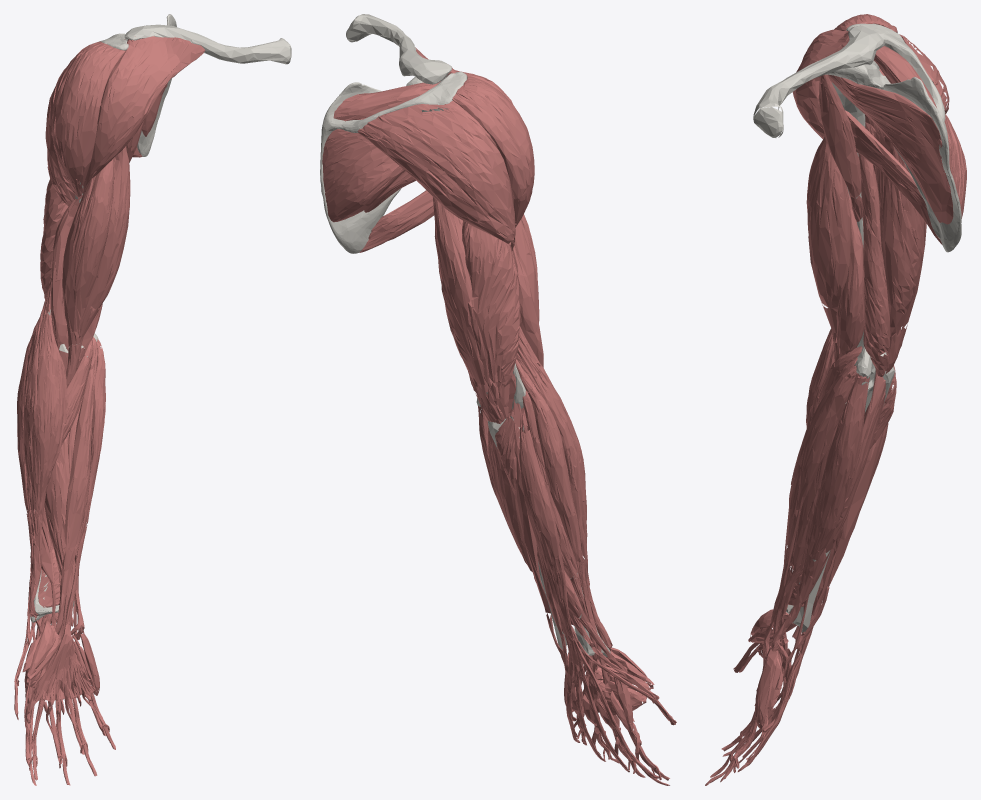
The model's file is v3-musc-arm.glb.
3 renders of one model, left to right at view 1: azimuth 30°, elevation 25°; view 2: azimuth 150°, elevation 25°; view 3: azimuth 270°, elevation 25°, orthographic. The views are drawn at different scales.
Parts seen in each view (by area): view 1: Clavicular part of deltoid muscle.r#91, Brachioradialis muscle.r#41, Acromial part of deltoid muscle.r#93, Long head of biceps brachii.r#79, Flexor carpi radialis.r#59, Short head of biceps brachii.r#77, Palmaris longus muscle.r#56, Clavicle.r#104, Brachialis muscle.r#82, Radial head of flexor digitorum superficialis.r#54, Lateral head of triceps brachii.r#72, Humero-ulnar head of flexor digitorum superficialis.r#60 (+11 smaller); view 2: Scapular spinal part of deltoid muscle.r#90, Lateral head of triceps brachii.r#72, Infraspinatus muscle.r#85, Acromial part of deltoid muscle.r#93, Scapula.r#102, Long head of triceps brachii.r#71, Extensor digitorum.r#47, Extensor carpi radialis longus.r#39, Brachioradialis muscle.r#41, Extensor digitorum.r#46, Clavicle.r#104, Teres major muscle.r#95 (+14 smaller); view 3: Subscapularis muscle.r#88, Long head of triceps brachii.r#71, Short head of biceps brachii.r#77, Scapula.r#102, Humeral head of flexor carpi ulnaris.r#64, Medial head of triceps brachii.r#75, Clavicle.r#104, Coracobrachialis muscle.r#81, Brachialis muscle.r#82, Palmaris longus muscle.r#57, Teres major muscle.r#95, Clavicular part of deltoid muscle.r#91 (+20 smaller).
Boxes of the visible parts, x1=… form: Clavicular part of deltoid muscle.r#91: x1=87, y1=36, x2=205, y2=180; Brachioradialis muscle.r#41: x1=23, y1=309, x2=68, y2=513; Acromial part of deltoid muscle.r#93: x1=52, y1=41, x2=125, y2=185; Long head of biceps brachii.r#79: x1=62, y1=158, x2=114, y2=346; Flexor carpi radialis.r#59: x1=64, y1=358, x2=96, y2=552; Short head of biceps brachii.r#77: x1=86, y1=146, x2=130, y2=308; Palmaris longus muscle.r#56: x1=32, y1=339, x2=101, y2=701; Clavicle.r#104: x1=124, y1=24, x2=289, y2=63; Brachialis muscle.r#82: x1=50, y1=199, x2=102, y2=352; Radial head of flexor digitorum superficialis.r#54: x1=44, y1=437, x2=70, y2=569; Lateral head of triceps brachii.r#72: x1=40, y1=179, x2=68, y2=299; Humero-ulnar head of flexor digitorum superficialis.r#60: x1=29, y1=346, x2=109, y2=770; Scapular spinal part of deltoid muscle.r#90: x1=367, y1=106, x2=515, y2=243; Lateral head of triceps brachii.r#72: x1=462, y1=221, x2=520, y2=386; Infraspinatus muscle.r#85: x1=322, y1=105, x2=459, y2=222; Acromial part of deltoid muscle.r#93: x1=452, y1=75, x2=534, y2=223; Scapula.r#102: x1=320, y1=71, x2=467, y2=253; Long head of triceps brachii.r#71: x1=433, y1=197, x2=490, y2=384; Extensor digitorum.r#47: x1=519, y1=427, x2=573, y2=640; Extensor carpi radialis longus.r#39: x1=528, y1=386, x2=583, y2=564; Brachioradialis muscle.r#41: x1=530, y1=364, x2=587, y2=558; Extensor digitorum.r#46: x1=520, y1=407, x2=659, y2=778; Clavicle.r#104: x1=346, y1=14, x2=451, y2=84; Teres major muscle.r#95: x1=359, y1=190, x2=434, y2=252; Subscapularis muscle.r#88: x1=828, y1=74, x2=953, y2=224; Long head of triceps brachii.r#71: x1=874, y1=129, x2=926, y2=336; Short head of biceps brachii.r#77: x1=807, y1=138, x2=851, y2=309; Scapula.r#102: x1=825, y1=23, x2=961, y2=252; Humeral head of flexor carpi ulnaris.r#64: x1=807, y1=378, x2=868, y2=560; Medial head of triceps brachii.r#75: x1=858, y1=126, x2=890, y2=360; Clavicle.r#104: x1=753, y1=25, x2=884, y2=137; Coracobrachialis muscle.r#81: x1=819, y1=77, x2=861, y2=198; Brachialis muscle.r#82: x1=836, y1=187, x2=864, y2=356; Palmaris longus muscle.r#57: x1=795, y1=370, x2=855, y2=511; Teres major muscle.r#95: x1=845, y1=110, x2=942, y2=244; Clavicular part of deltoid muscle.r#91: x1=792, y1=29, x2=849, y2=139.
Size of the model in its own units: 0.4468 by 1 by 0.2873.
